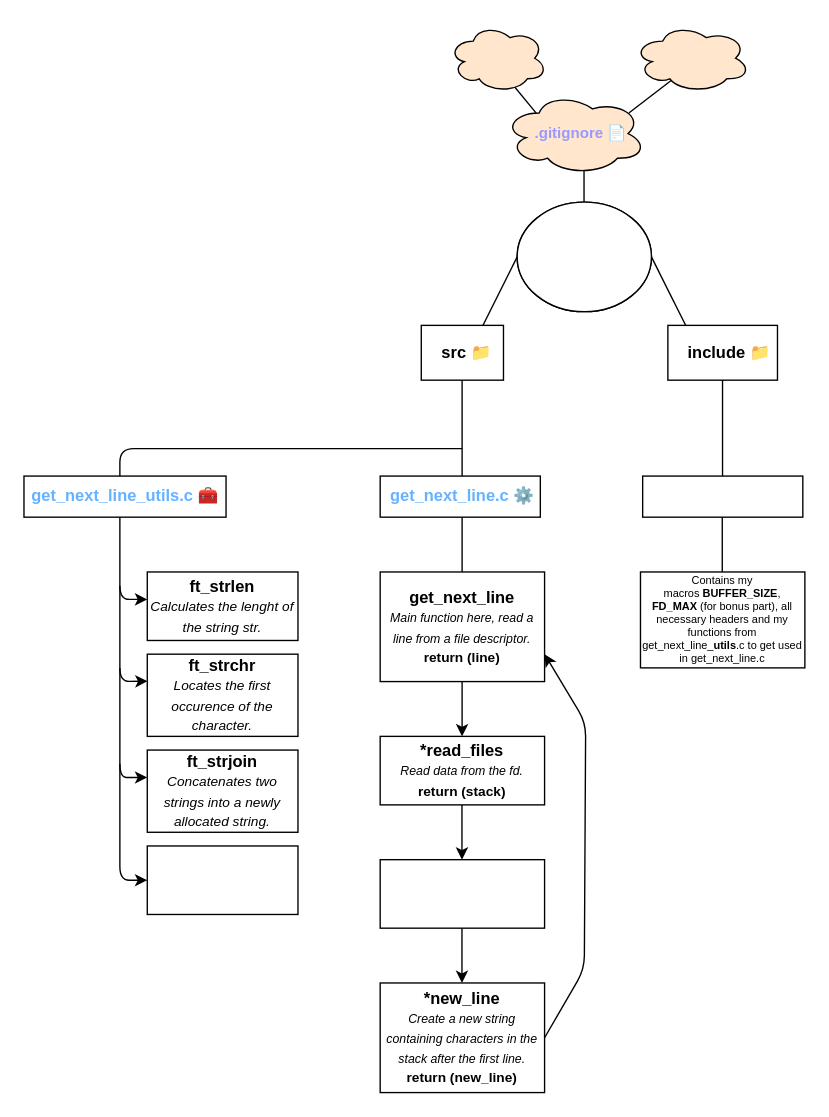
This 829x1117 diagram has some shape labels left out. The centre of each missing label's shape, as x and y in pixels:
"*extract_line Extract the first line. return (line)" belongs at [462,893].
"free_strs Frees the memory pointed by two strings." belongs at [222,879].
"get_next_line.h 📖" belongs at [722,496].
"GnL 📁" belongs at [583,256].
"main.c" belongs at [497,57].
"Test1, 2, 3, 4, 5, 6 📄" belongs at [691,57].
